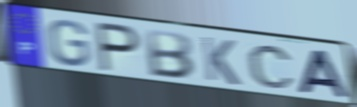A: (297, 47, 352, 100)
B: (144, 27, 195, 81)
C: (246, 43, 297, 90)
G: (47, 18, 92, 68)
K: (199, 34, 242, 88)
P: (94, 20, 143, 75)
